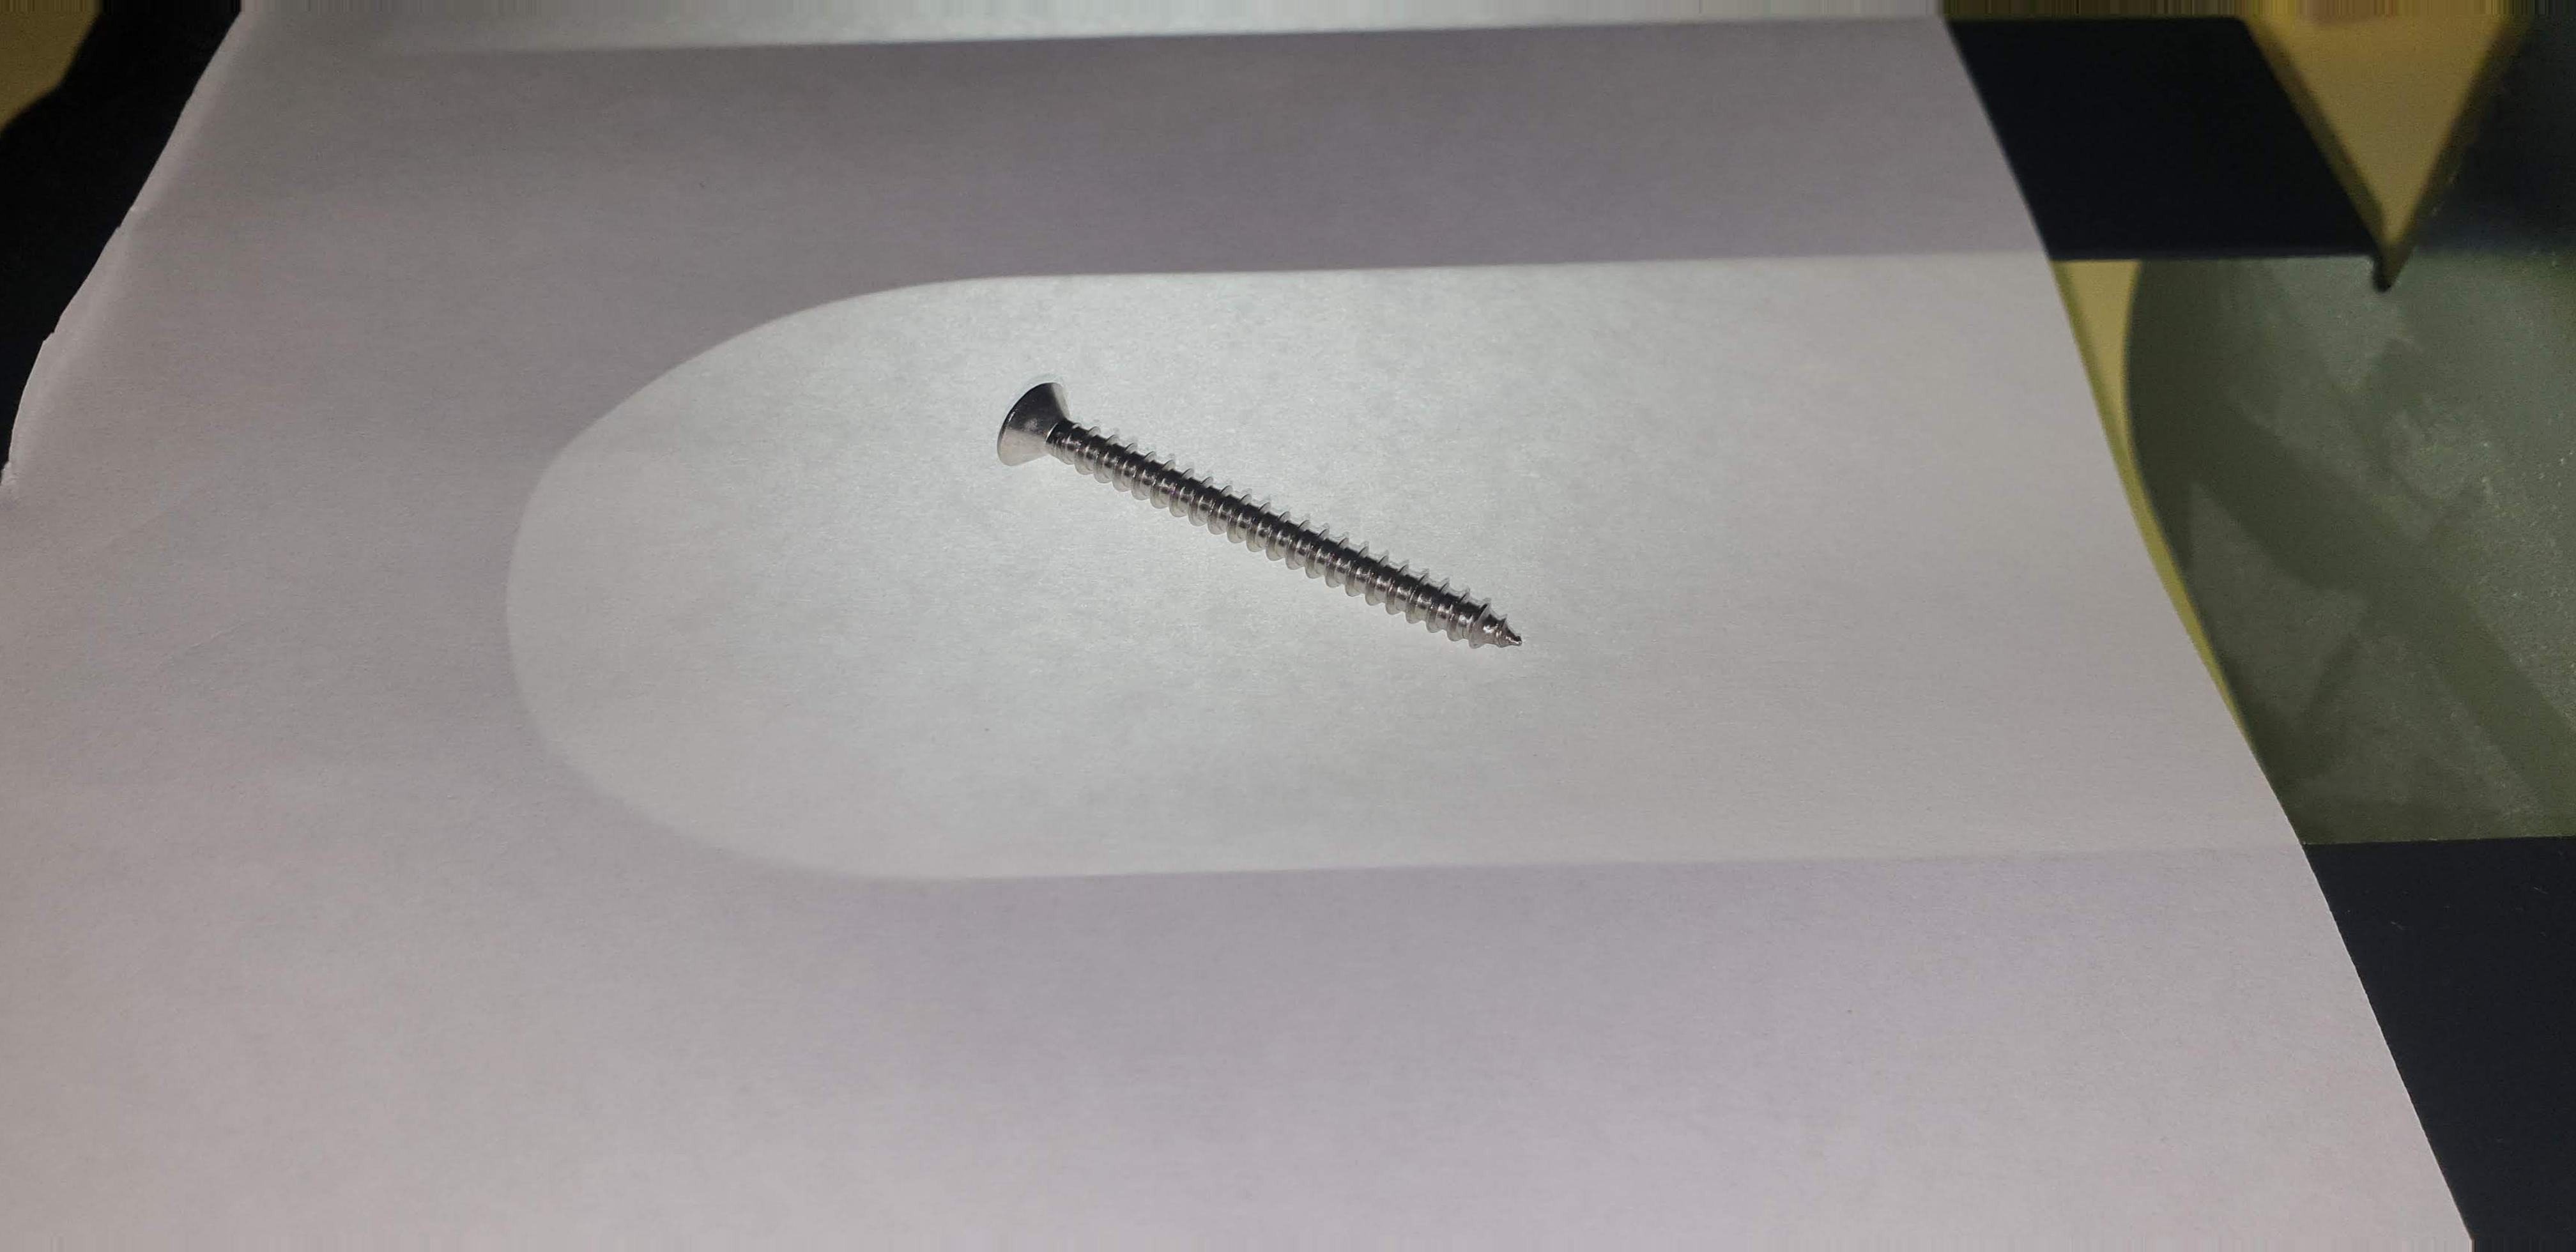fastener: (913, 299, 1598, 718)
